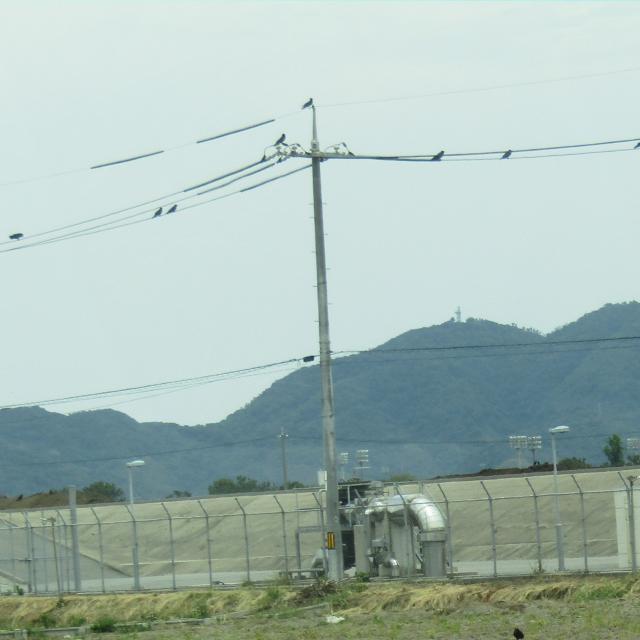pole: (262, 90, 380, 594)
